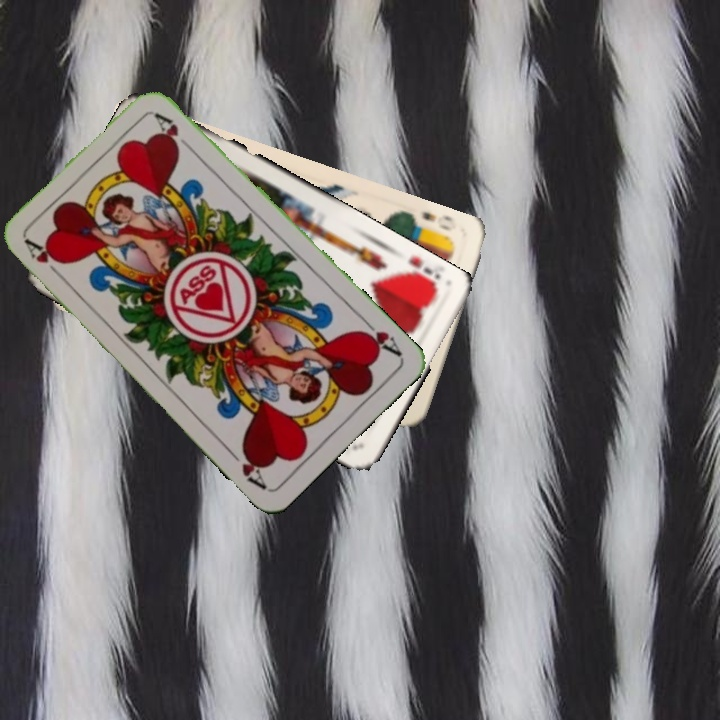EO: (418, 207, 459, 234)
HA: (354, 313, 405, 359), (21, 235, 68, 283)
HK: (393, 252, 444, 294)
